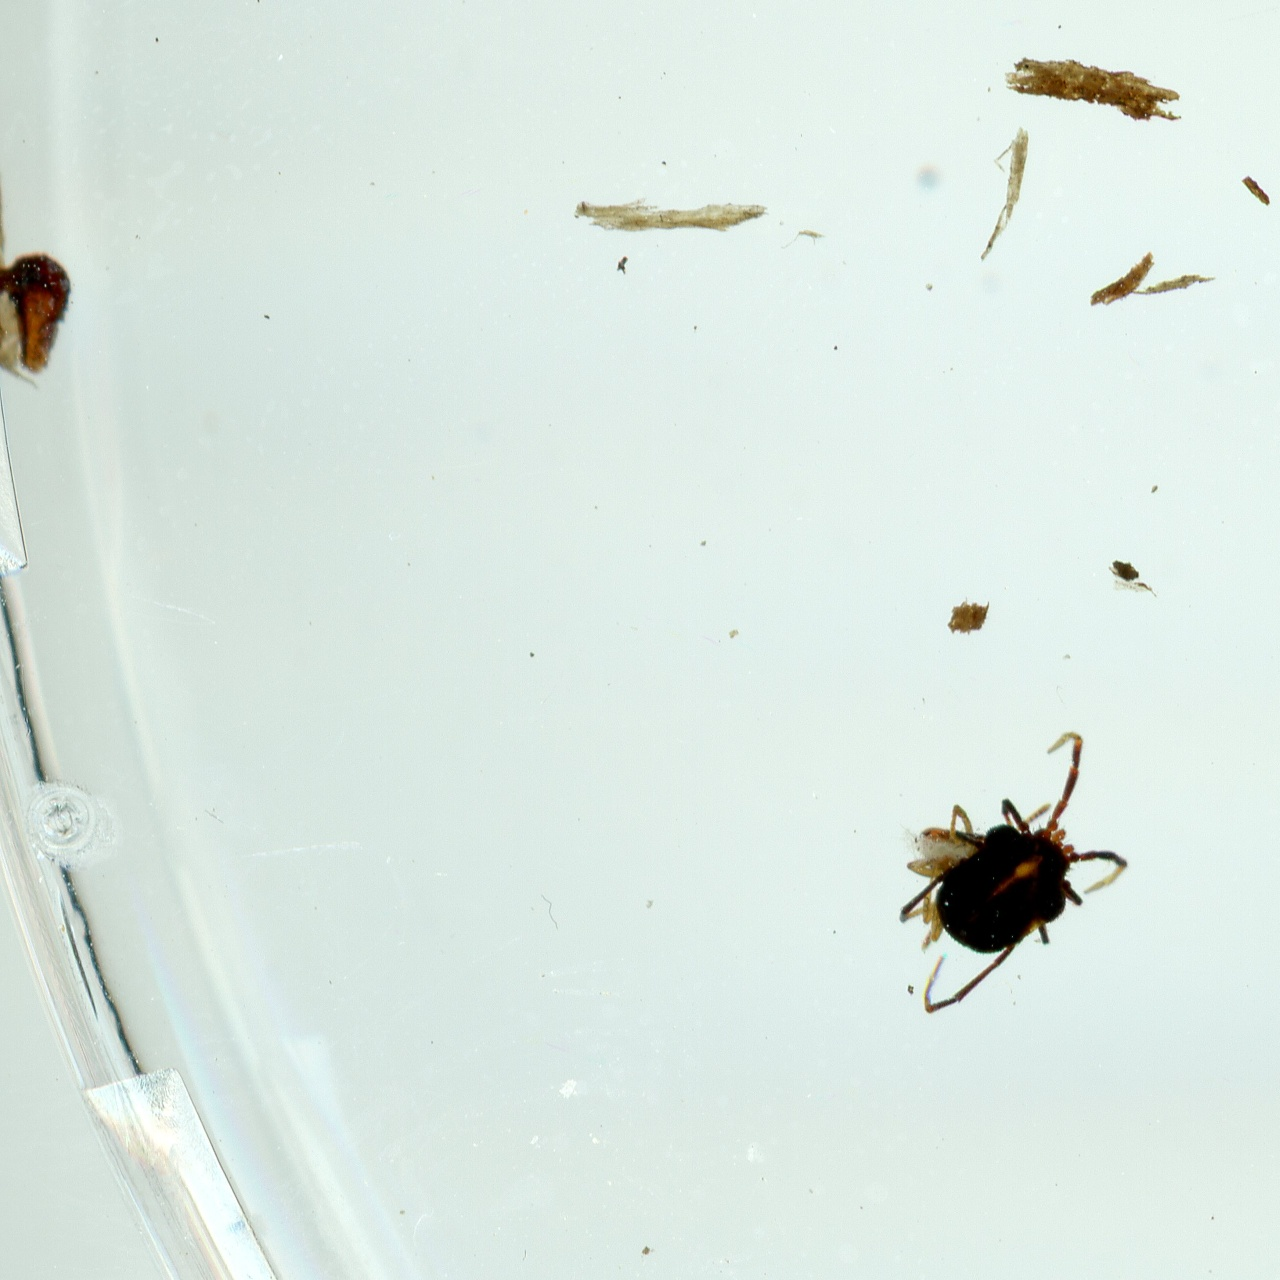arthropod: (893, 723, 1132, 1021)
